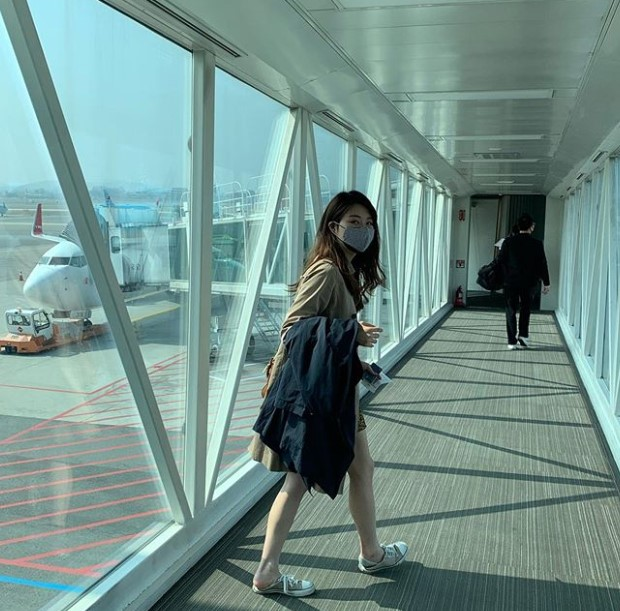face_with_mask: (322, 189, 382, 258)
